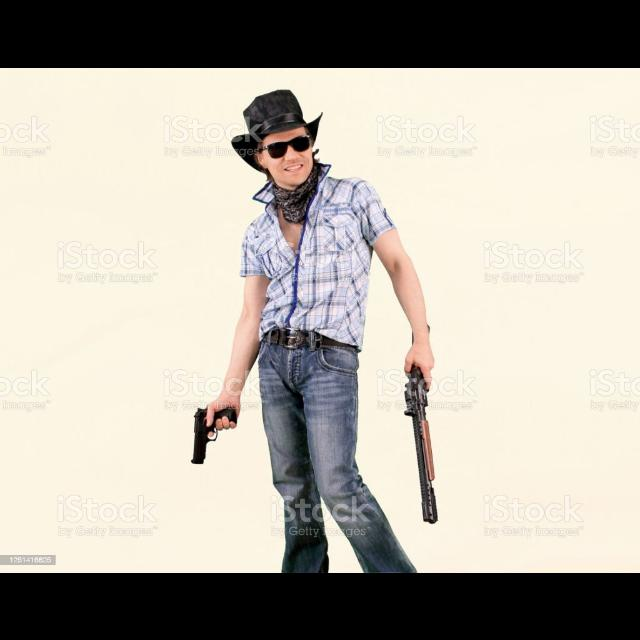handgun: (187, 400, 241, 468)
